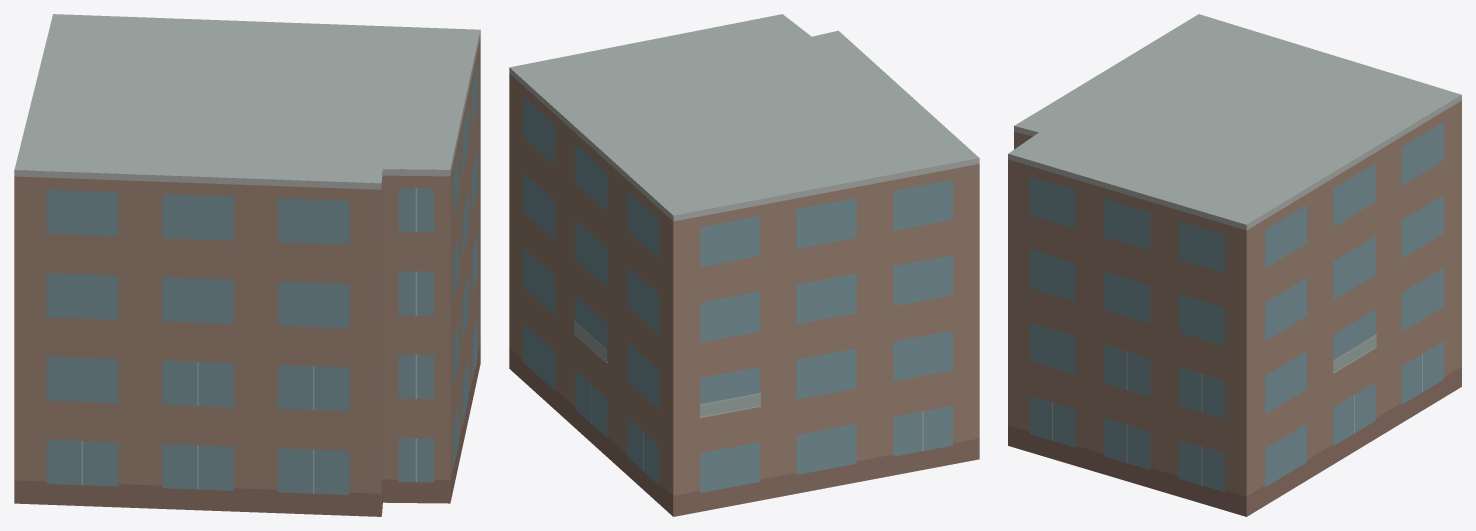
Rendered from survey-upis-32718558.glb.
The picture shows the model from 3 angles, left to right: view 1: azimuth 30°, elevation 25°; view 2: azimuth 150°, elevation 25°; view 3: azimuth 270°, elevation 25°; orthographic projection. The views are drawn at different scales.
Visible parts, largest first — view 1: survey-upis-32718558.tmp; view 2: survey-upis-32718558.tmp; view 3: survey-upis-32718558.tmp.
Boxes of the visible parts, x1,y1,x2,y2 form: survey-upis-32718558.tmp: [14, 14, 480, 516]; survey-upis-32718558.tmp: [509, 14, 979, 516]; survey-upis-32718558.tmp: [1008, 14, 1461, 516].
Size of the model in its own units: 19.58 by 12.64 by 17.81.
